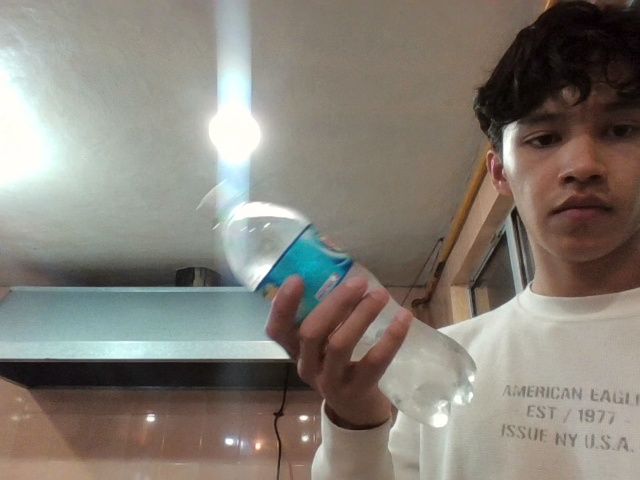botella: (145, 131, 513, 445)
